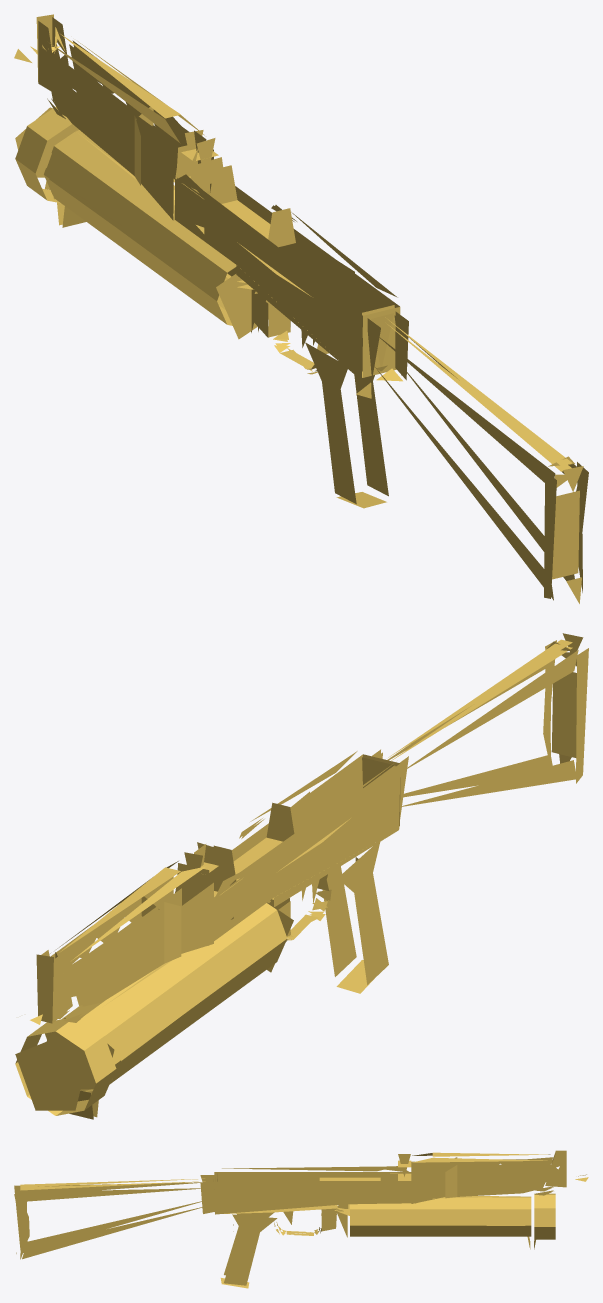
The model's file is charm_mst_subfusil_14.glb.
3 views of the same model, one above another, from view 1: azimuth 30°, elevation 25°; view 2: azimuth 150°, elevation 25°; view 3: azimuth 270°, elevation 25° (orthographic). The views are drawn at different scales.
Parts seen in each view (by area): view 1: p0_paint; view 2: p0_paint; view 3: p0_paint.
Part boxes in pixels (<box>): p0_paint: <box>14,14,588,603</box>; p0_paint: <box>15,633,588,1119</box>; p0_paint: <box>14,1150,588,1288</box>.
Size of the model in its own units: 0.0549 by 0.167 by 0.6452.
